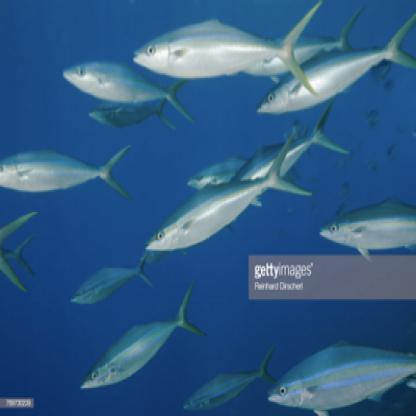Bio: (142, 129, 312, 254), (128, 2, 322, 102), (254, 14, 415, 114), (76, 278, 207, 390), (265, 329, 408, 413), (61, 53, 197, 120), (0, 137, 135, 203), (320, 199, 404, 246)
